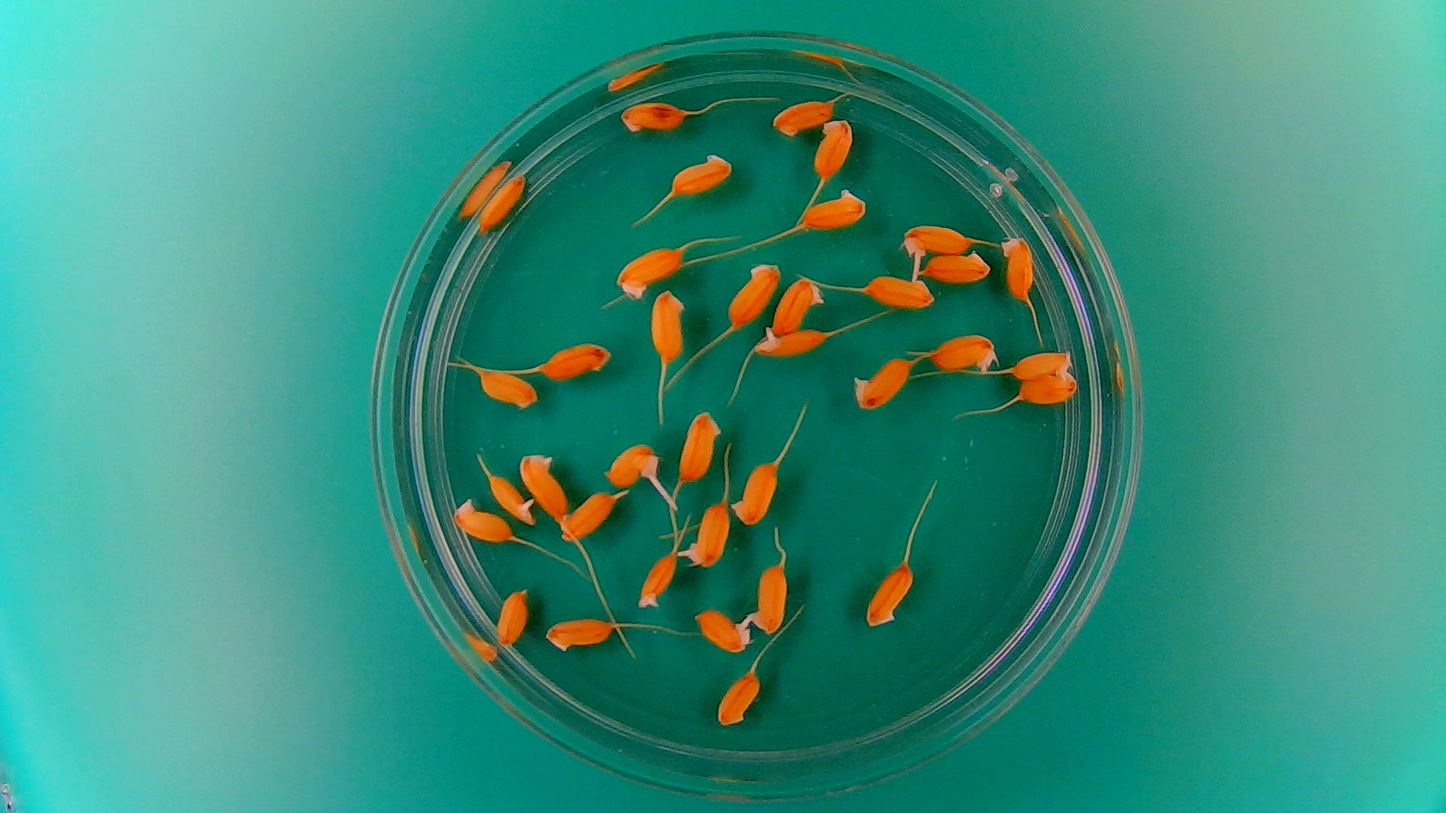no: (612, 243, 685, 300), (864, 559, 916, 629), (725, 260, 780, 326), (851, 354, 913, 411), (520, 451, 570, 521), (476, 169, 528, 233), (537, 340, 615, 381), (730, 460, 779, 525), (752, 553, 790, 636), (666, 151, 734, 197), (679, 410, 721, 483), (648, 291, 690, 364), (797, 187, 868, 230), (560, 489, 618, 540), (477, 366, 540, 410), (770, 96, 837, 137), (545, 615, 617, 653), (863, 276, 937, 312), (813, 115, 855, 178), (997, 233, 1036, 300), (715, 669, 760, 726), (452, 499, 511, 542), (920, 249, 992, 282), (636, 553, 677, 610), (618, 100, 687, 132), (1014, 373, 1078, 406), (494, 586, 529, 645)
yes: (770, 272, 825, 333), (927, 333, 999, 373), (487, 472, 537, 527), (688, 501, 728, 567), (694, 607, 751, 653), (752, 325, 828, 358), (898, 225, 970, 259), (604, 443, 662, 483), (1008, 348, 1073, 380)
